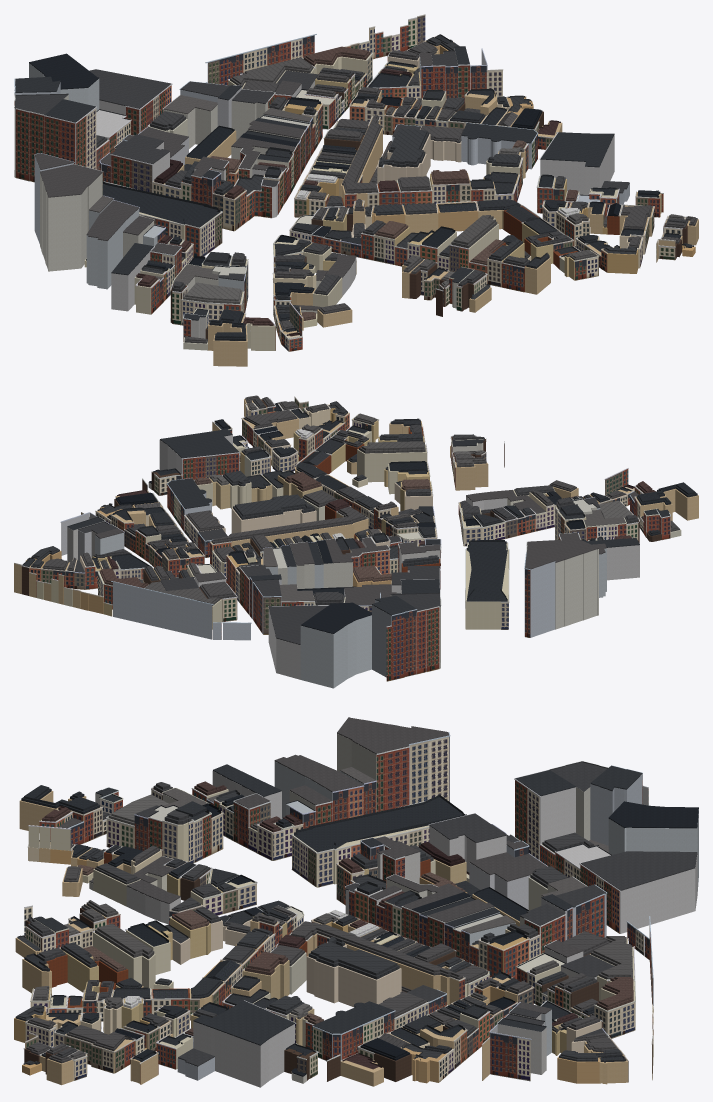
3 views of the same model, one above another, from view 1: azimuth 30°, elevation 25°; view 2: azimuth 150°, elevation 25°; view 3: azimuth 270°, elevation 25° (orthographic). The views are drawn at different scales.
Visible parts, largest first — view 1: bldg_496454131, bldg_495636359_facade0, bldg_198288354_roof_b, bldg_496454158_roof, bldg_496413254, bldg_496413254_roof, bldg_496454134, bldg_496454131_roof, bldg_496454155_roof, bldg_496457184, bldg_496454152_facade0, bldg_496431854_facade0 (+39 smaller); view 2: bldg_496454155, bldg_495636359_facade0, bldg_496454131, bldg_198288354_roof_b, bldg_496454130, bldg_198288354, bldg_496413254_roof, bldg_496454158_roof, bldg_496454155_roof, bldg_496339708, bldg_496413254_facade0, bldg_496411307 (+30 smaller); view 3: bldg_496413254, bldg_496454158, bldg_198288354_roof_b, bldg_496411307, bldg_496454158_roof, bldg_496454130_facade0, bldg_496454155, bldg_496413254_roof, bldg_496454155_roof, bldg_496454131_roof, bldg_496461525, bldg_495163772_facade1 (+66 smaller).
Boxes of the visible parts, box(x1,y1,x2,y2) form: bldg_496454131: box(40, 172, 102, 271); bldg_495636359_facade0: box(205, 34, 316, 85); bldg_198288354_roof_b: box(103, 181, 218, 223); bldg_496454158_roof: box(89, 69, 171, 108); bldg_496413254: box(540, 134, 614, 194); bldg_496413254_roof: box(540, 132, 614, 167); bldg_496454134: box(86, 208, 139, 289); bldg_496454131_roof: box(40, 164, 102, 197); bldg_496454155_roof: box(29, 53, 98, 89); bldg_496457184: box(208, 313, 247, 366); bldg_496454152_facade0: box(44, 115, 75, 163); bldg_496431854_facade0: box(110, 154, 152, 192); bldg_496454155: box(300, 615, 371, 688); bldg_495636359_facade0: box(111, 581, 213, 639); bldg_496454131: box(555, 549, 598, 629); bldg_198288354_roof_b: box(468, 540, 506, 598); bldg_496454130: box(530, 561, 555, 637); bldg_198288354: box(465, 543, 508, 629); bldg_496413254_roof: box(160, 429, 239, 458); bldg_496454158_roof: box(268, 605, 327, 644); bldg_496454155_roof: box(301, 602, 371, 633); bldg_496339708: box(357, 444, 426, 482); bldg_496413254_facade0: box(181, 452, 240, 479); bldg_496411307: box(231, 508, 316, 533); bldg_496413254: box(193, 1021, 294, 1087); bldg_496454158: box(620, 853, 697, 933); bldg_198288354_roof_b: box(296, 795, 463, 848); bldg_496411307: box(306, 942, 401, 1007); bldg_496454158_roof: box(581, 851, 697, 890); bldg_496454130_facade0: box(408, 735, 449, 804); bldg_496454155: box(608, 809, 698, 891); bldg_496413254_roof: box(193, 1001, 294, 1045); bldg_496454155_roof: box(608, 801, 698, 828); bldg_496454131_roof: box(337, 717, 411, 753); bldg_496461525: box(590, 774, 642, 845); bldg_495163772_facade1: box(489, 1032, 531, 1081).
Bounding box in the file's own units: 277 × 38.54 × 280.
120 materials, 54 textured.
